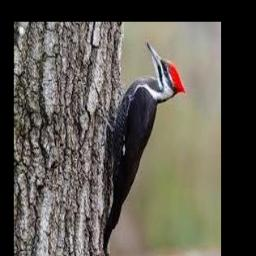Woodpecker: (100, 41, 186, 256)
